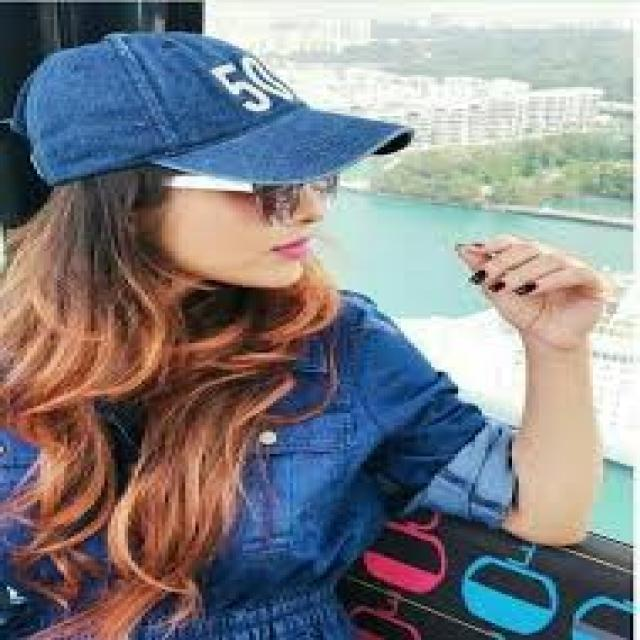cap: (8, 7, 446, 210)
